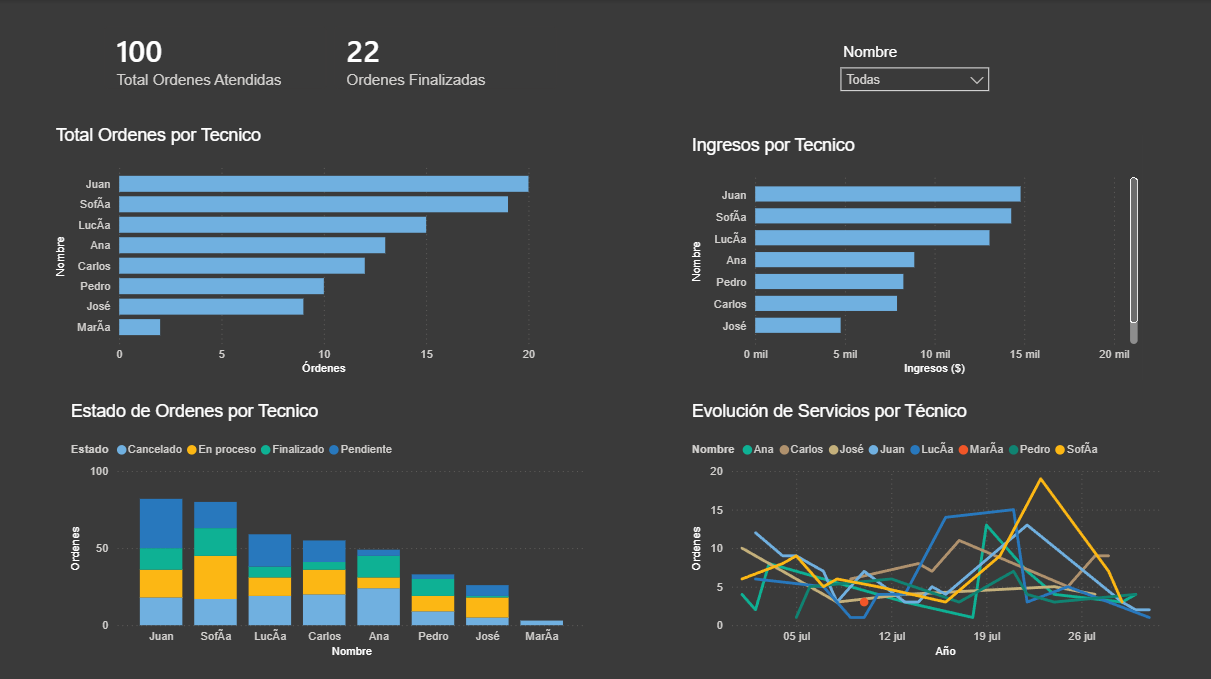

This screenshot's page, from the dashboard's own definition file:
{"tool":"powerbi","page":{"name":"Rendimiento tecnico","canvas":[1280,720],"ordinal":2},"visuals":[{"type":"cardVisual","fields":{"Data":["Cliente.TotalOrdenesAtendidas","Cliente.OrdenesFinalizadas"]},"box":[158.1,10.3,481.9,106.7],"z":0},{"type":"barChart","title":"Total Órdenes por Tecnico","fields":{"Category":["Tecnico.Nombre"],"Y":["Cliente.TotalOrdenesAtendidas"]},"box":[75.8,116.9,539.8,260.9],"z":1000},{"type":"columnChart","title":"Estado de Ordenes por Tecnico","fields":{"Category":["Tecnico.Nombre"],"Y":["Sum(DetalleOrden.Cantidad)"],"Series":["OrdenServicio.Estado"]},"box":[50.1,399.7,589.9,299.4],"z":2000},{"type":"lineChart","title":"Evolucion de Servicios por Tecnico","fields":{"Y":["Sum(DetalleOrden.Cantidad)"],"Series":["Tecnico.Nombre"],"Category":["OrdenServicio.FechaIngreso.Variación.Jerarquía de fechas.Año","OrdenServicio.FechaIngreso.Variación.Jerarquía de fechas.Trimestre","OrdenServicio.FechaIngreso.Variación.Jerarquía de fechas.Mes","OrdenServicio.FechaIngreso.Variación.Jerarquía de fechas.Día"]},"box":[673.4,399.7,574.5,299.4],"z":3000},{"type":"barChart","title":"Ingresos por Tecnico","fields":{"Category":["Tecnico.Nombre"],"Y":["Cliente.TotalIngresos"]},"box":[673.4,131.1,517.9,268.6],"z":4000},{"type":"slicer","fields":{"Values":["Tecnico.Nombre"]},"box":[969,20.6,176.7,70],"z":5000}]}

Visuals, with their boxes in screenshot pixels (x1, y1, x2, y2), scaled from the page's 1280x720 canvas onto the 1211x679 screenshot:
cardVisual - Cliente.TotalOrdenesAtendidas x Cliente.OrdenesFinalizadas: 150 10 606 110
"Total Órdenes por Tecnico" barChart: 72 110 582 356
"Estado de Ordenes por Tecnico" columnChart: 47 377 606 659
"Evolucion de Servicios por Tecnico" lineChart: 637 377 1181 659
"Ingresos por Tecnico" barChart: 637 124 1127 377
slicer - Tecnico.Nombre: 917 19 1084 85
